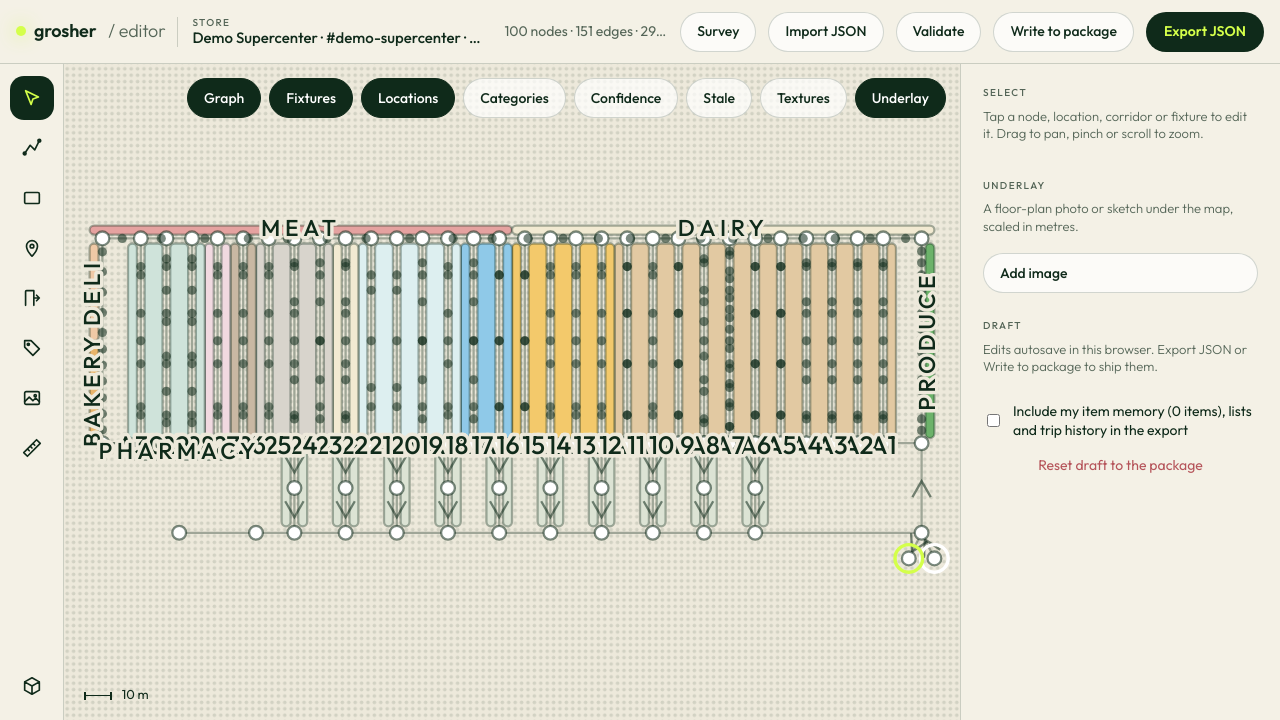
editor › #/edit opens the editor with stats, tools, layers and the inspector
The image size is (1280, 720).
Expected: the button named "shelf location" is shown, [10, 226, 54, 270]
Expected: the button named "preview in 3d" is shown, [10, 664, 54, 708]
What coordinates should you click on to do the following:
click the button "Validate"
I would click on:
 (938, 32)
Its box is [896, 12, 981, 52].
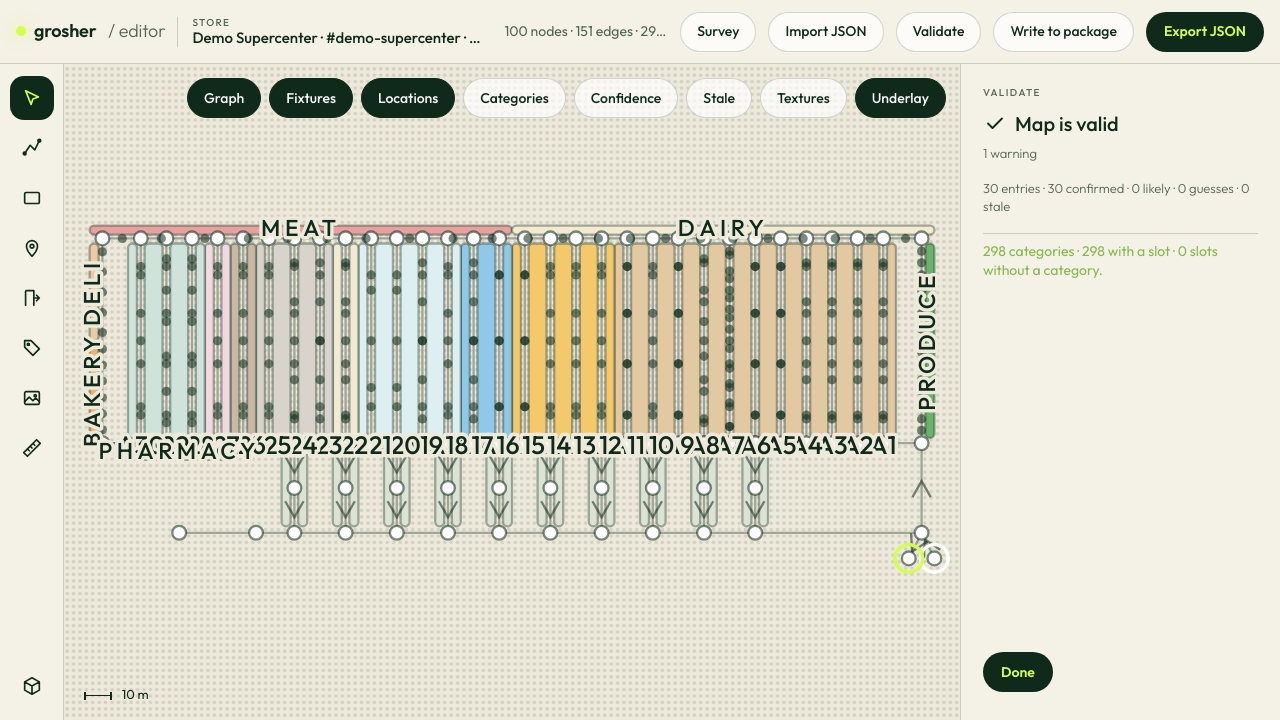
Now the heading "Map is valid" is shown, box [983, 110, 1119, 136]
What coordinates should you click on to do the following:
click the button "Done"
I would click on:
 (1018, 672)
Its box is [983, 652, 1053, 692].
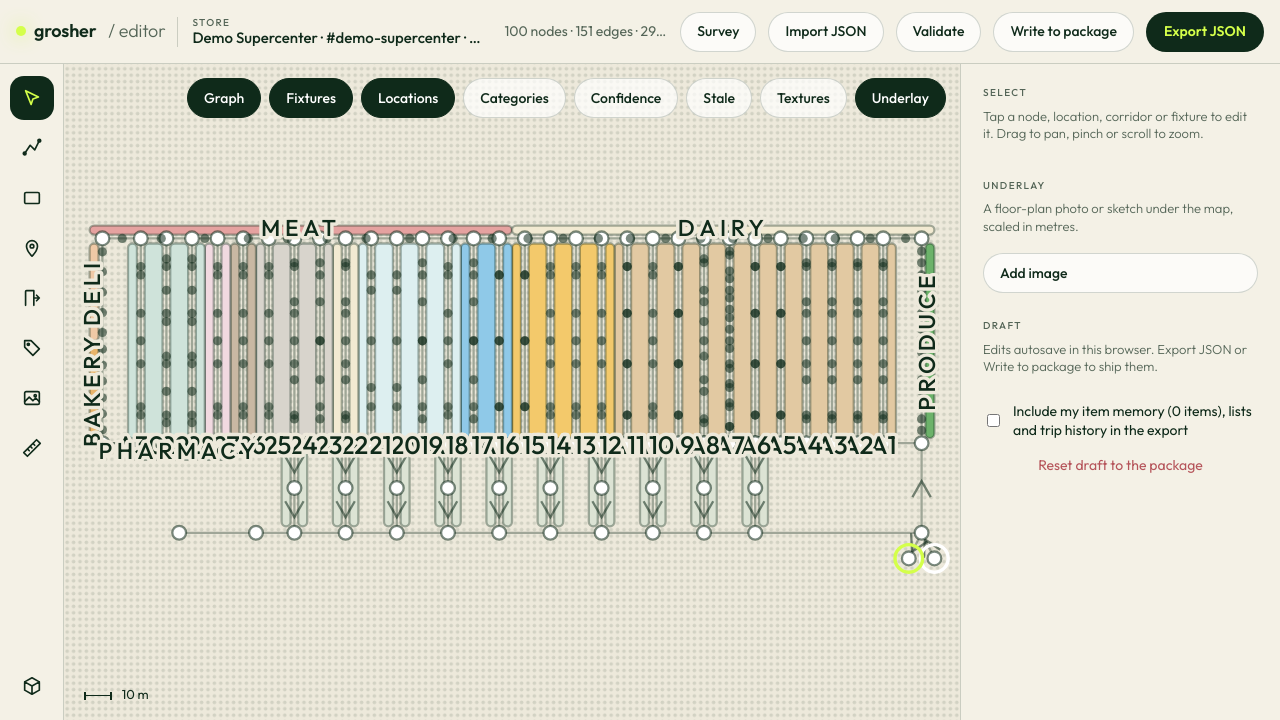
Now the text "Tap a node, location, corridor or fixture" is shown, box [983, 108, 1247, 141]
